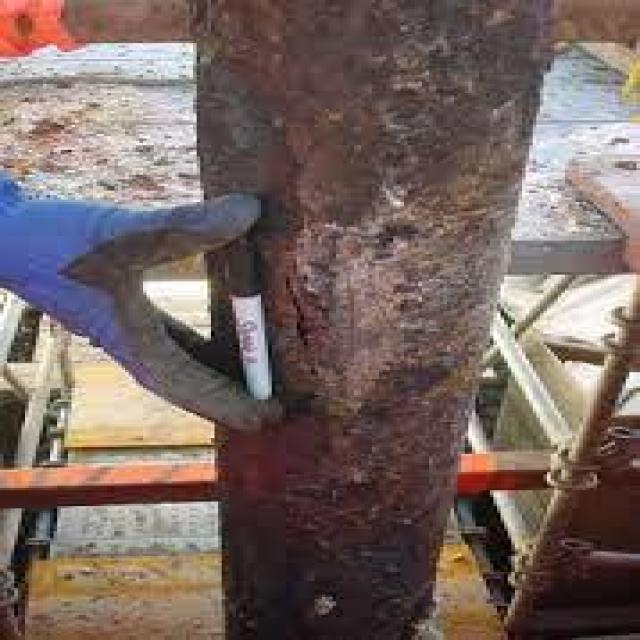non-corrosion: (211, 0, 547, 640)
